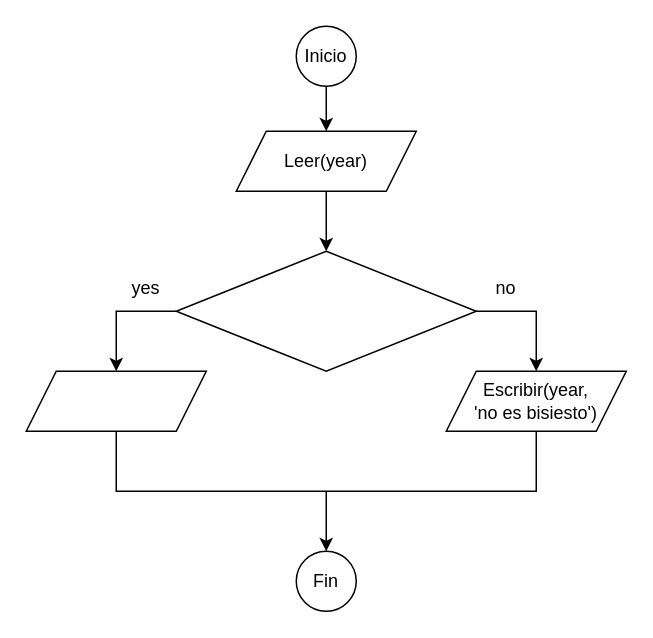
This 653x638 diagram has some shape labels left out. Here are the shapes that lost their labels. From the top down, the box of each, then its label:
(175, 250, 476, 371): (year%4 == 0) and ( (year%100 != 0 or ( year%400 == 0 ))
(25, 370, 206, 431): Escribir(year, 'es bisiesto')
